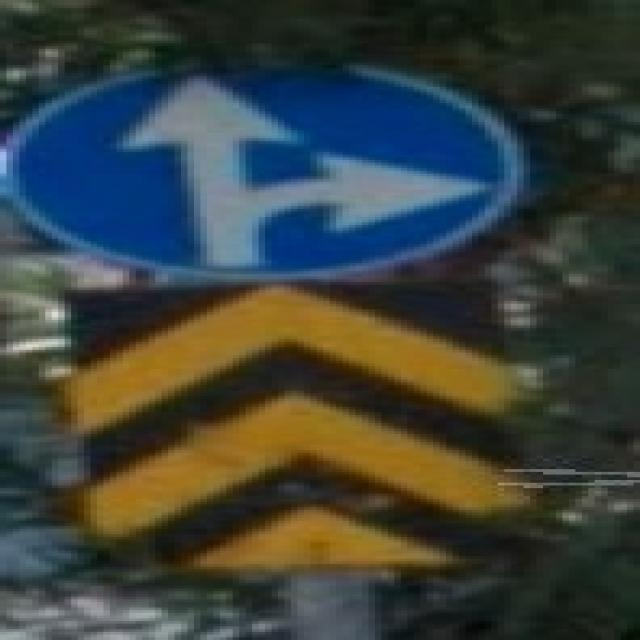Straight or Right: (14, 62, 505, 268)
